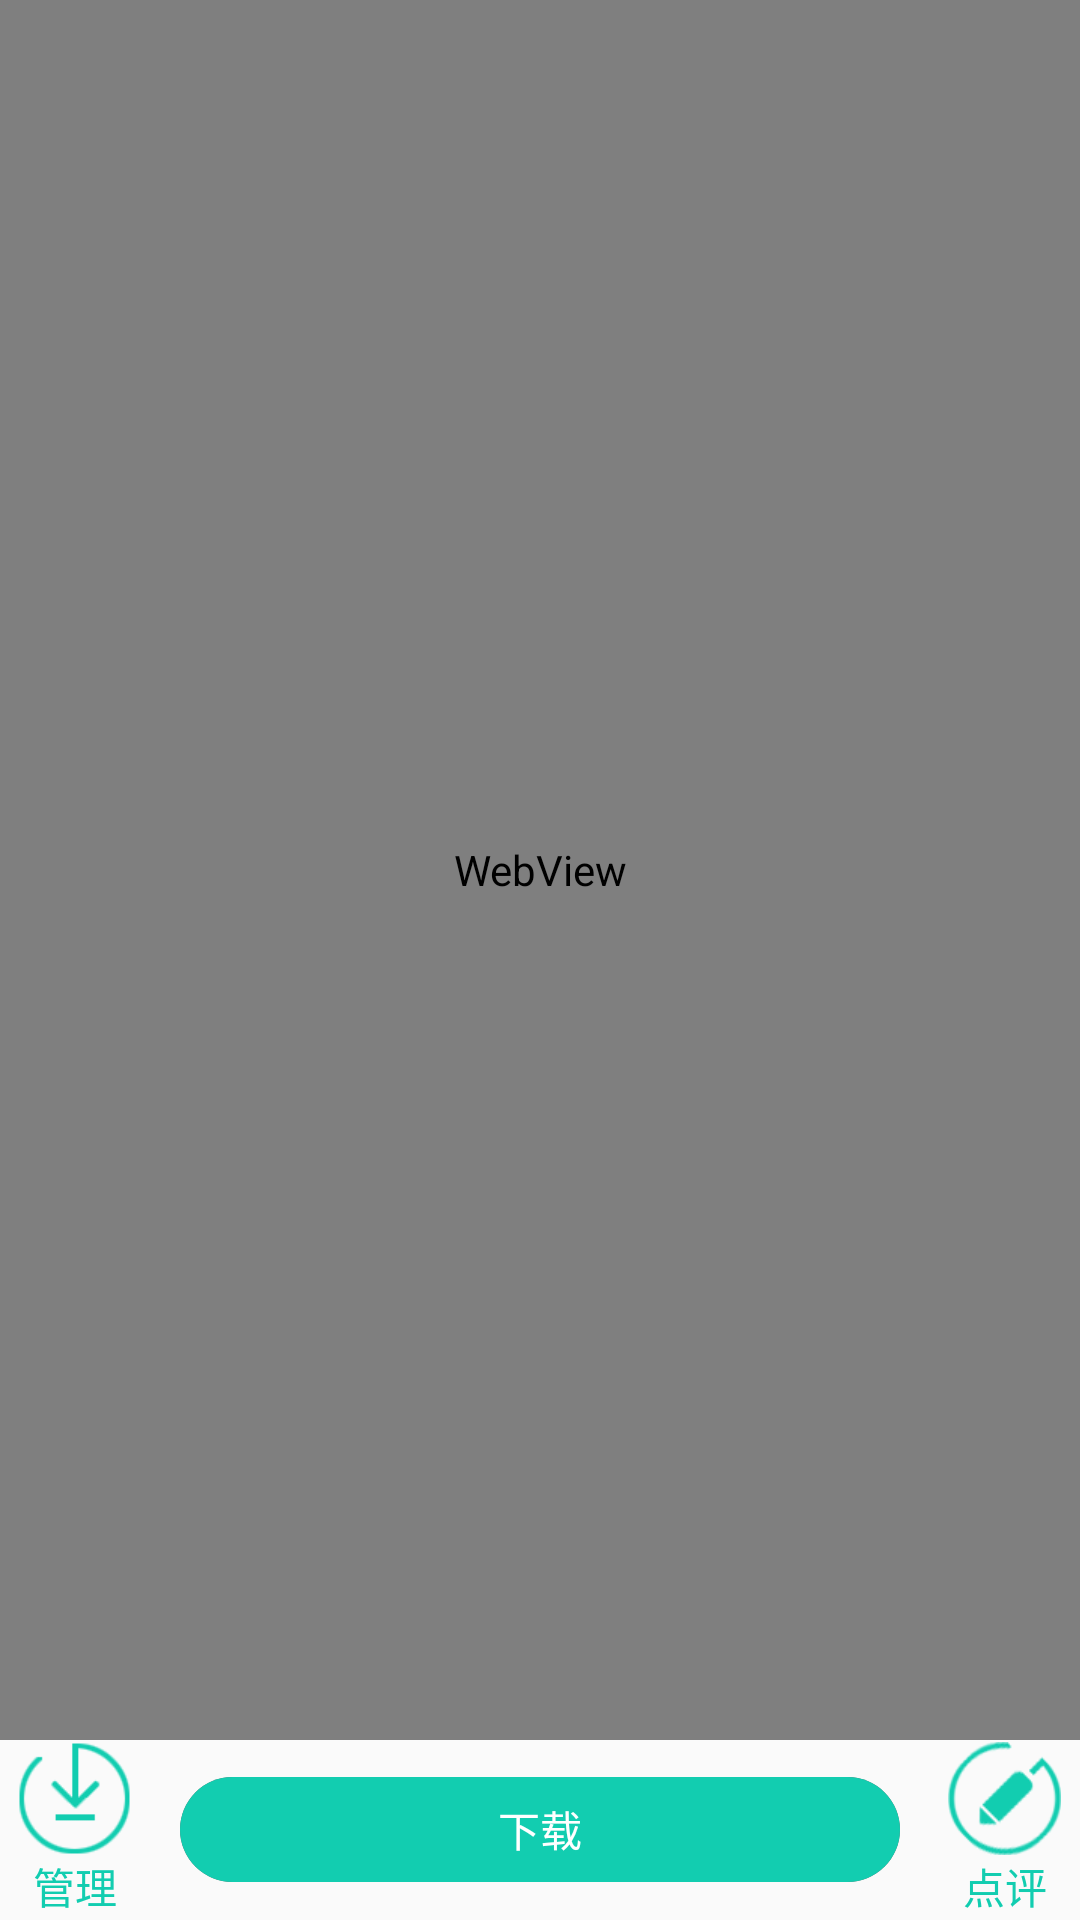

Icon click points for this 1080 x 1920 phone screenshot, format point (x, y):
user download iv: point (74, 1798)
